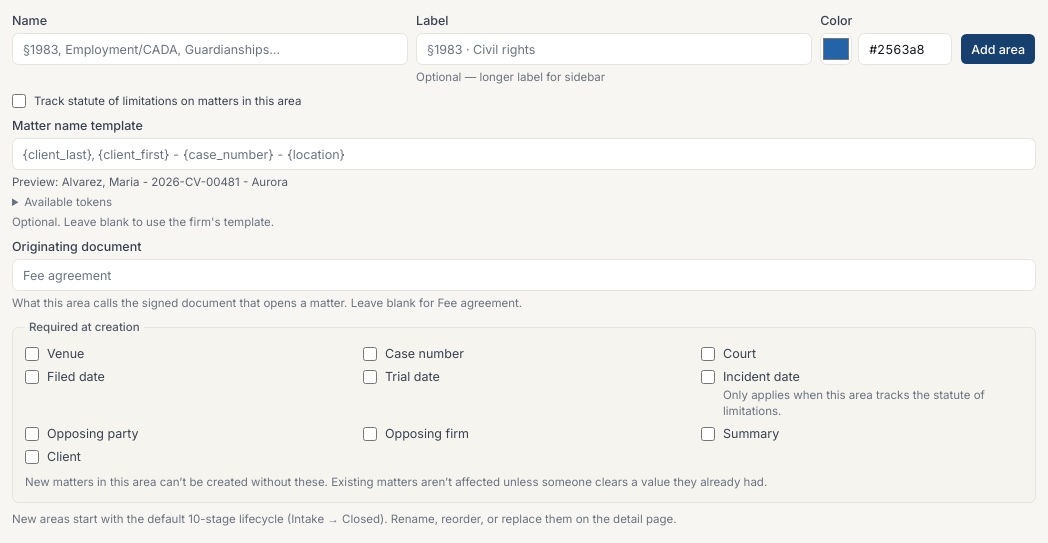
Test case: CreatePracticeAreaForm after a server validation error › keeps the typed name and the checked SOL toggle
Type "§1983" into the field with placeholder "§1983, Employment/CADA, Guardianships…".
click(210, 49); type("§1983")  # box [12, 33, 408, 65]
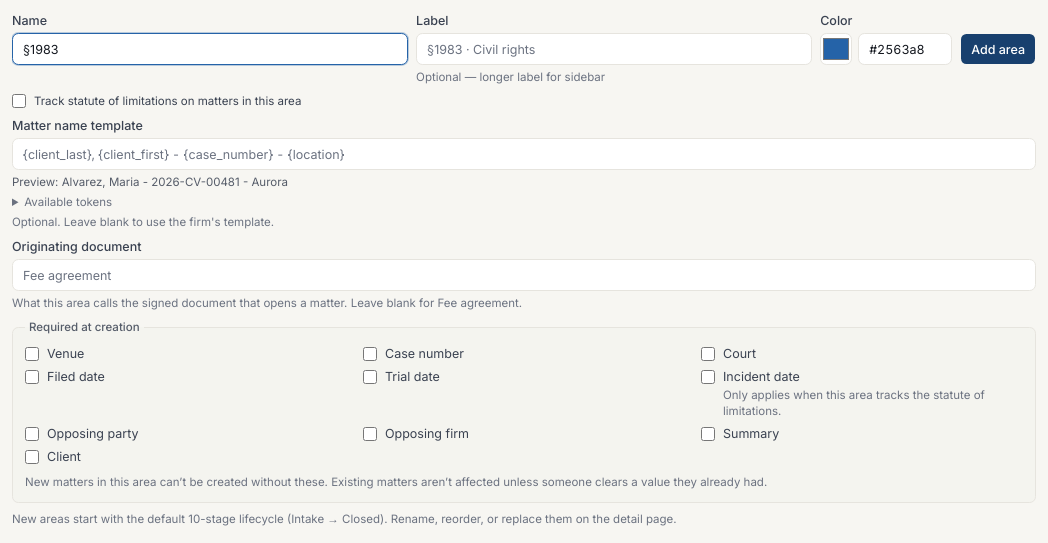
Click the checkbox labelled "Track statute of limitations on matters in this area".
click(19, 101)  # box [12, 94, 26, 108]
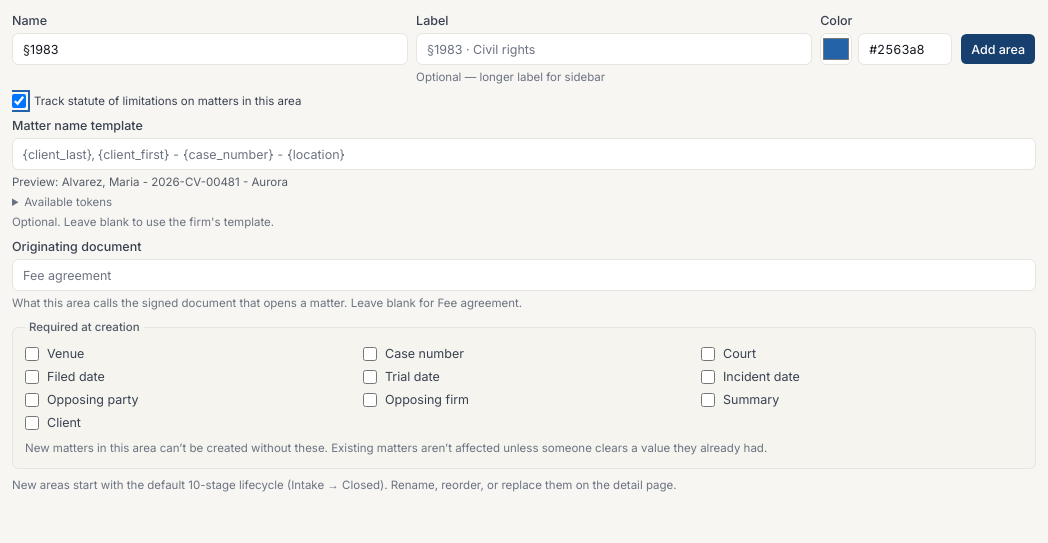
Click the button "Add area".
click(998, 49)  # box [960, 33, 1036, 65]
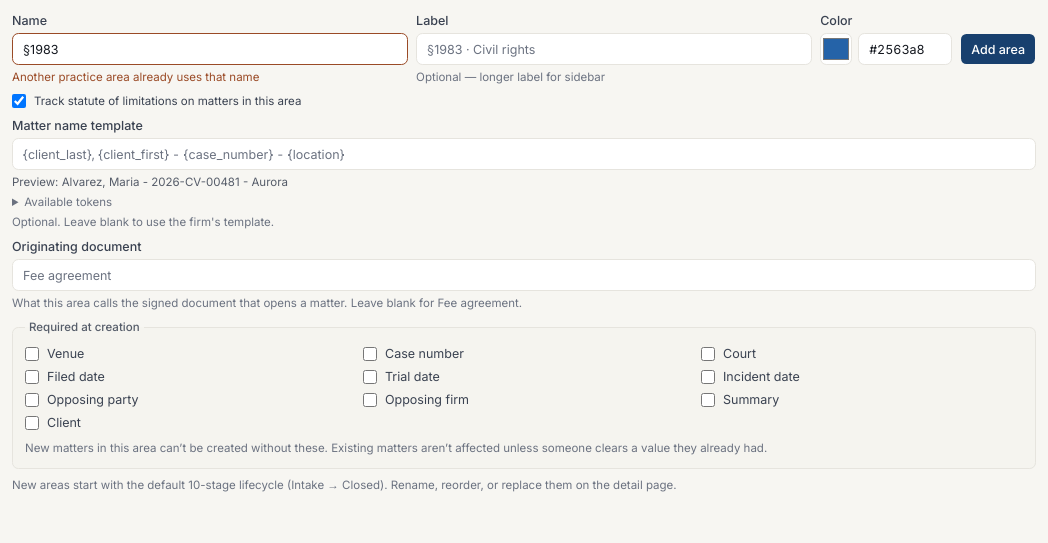
Expected: the checkbox labelled "Track statute of limitations on matters in this area" is checked, [12, 94, 26, 108]
Expected: the text "Another practice area already uses that name" is shown, [12, 70, 259, 84]
